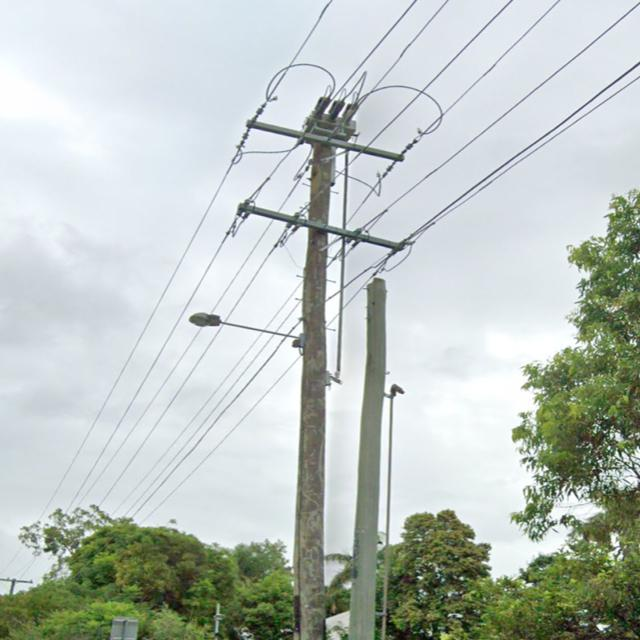HV-switch: (300, 96, 362, 146)
HV-transmission: (230, 103, 418, 170)
crossarm: (236, 200, 402, 252), (244, 118, 405, 163)
streetlight: (189, 311, 300, 342)
timber-pole: (295, 148, 336, 640), (348, 278, 387, 640)
